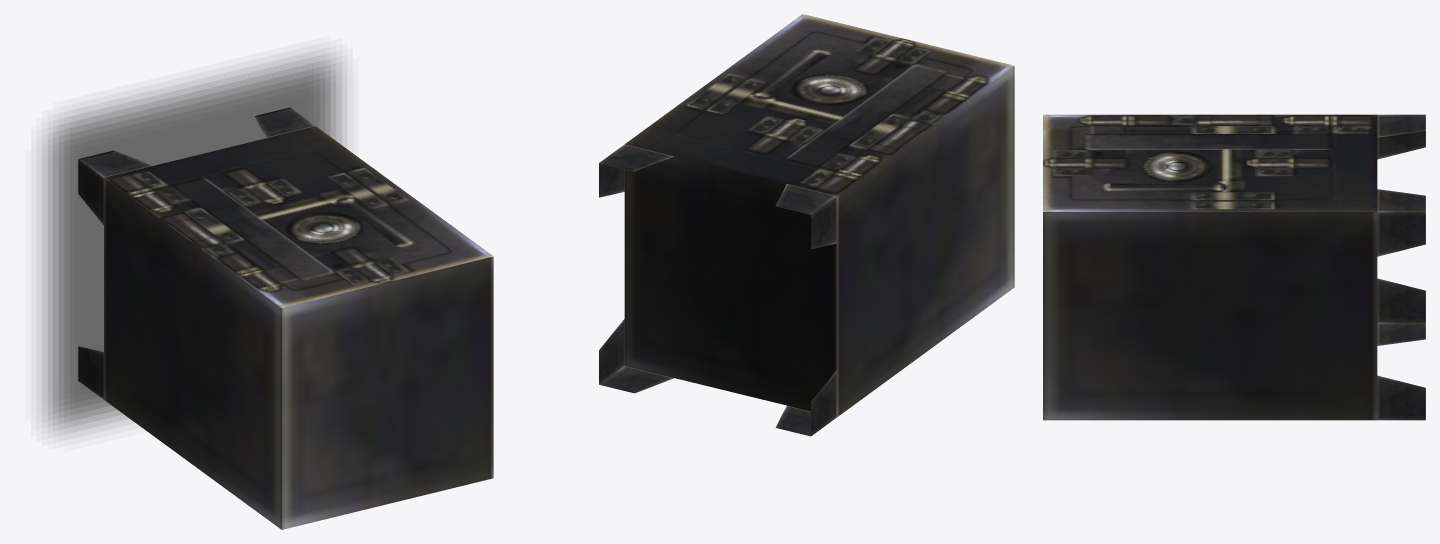
The model's file is cfo_safe.glb.
3 views of the same model, side by side, from view 1: azimuth 30°, elevation 25°; view 2: azimuth 150°, elevation 25°; view 3: azimuth 270°, elevation 25° (orthographic). The views are drawn at different scales.
Visible parts, largest first — view 1: CBSafe, shadow, CBEvSafeBase; view 2: CBSafe, CBEvSafeBase; view 3: CBSafe, CBEvSafeBase.
Part boxes in pixels (box(x1,y1,x2,y2)): CBSafe: box(104, 126, 493, 529); shadow: box(42, 50, 346, 435); CBEvSafeBase: box(78, 107, 315, 399); CBSafe: box(624, 14, 1014, 417); CBEvSafeBase: box(599, 144, 836, 436); CBSafe: box(1043, 114, 1377, 420); CBEvSafeBase: box(1377, 114, 1425, 420).
Size of the model in its own units: 8.2 by 8.28 by 8.14.
Materials: 3 (3 with a texture image).
